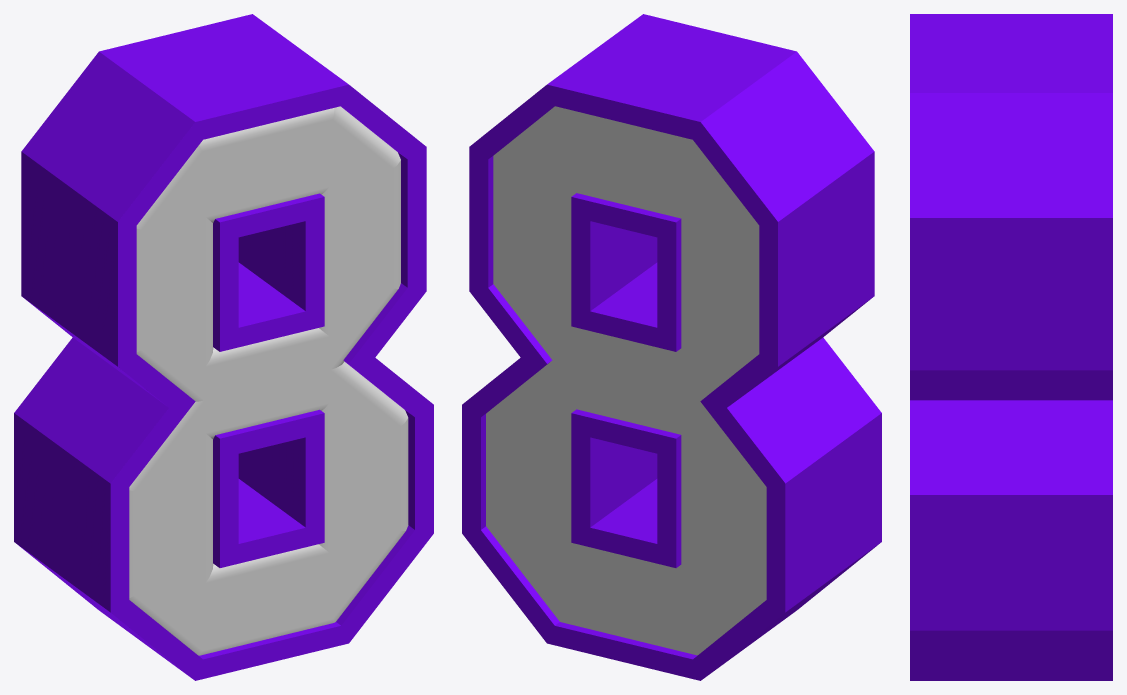
3 renders of one model, left to right at view 1: azimuth 30°, elevation 25°; view 2: azimuth 150°, elevation 25°; view 3: azimuth 270°, elevation 25°, orthographic. The views are drawn at different scales.
Parts seen in each view (by area): view 1: Extrusion Model.000, Extrusion Model; view 2: Extrusion Model.000, Extrusion Model; view 3: Extrusion Model.000.
Boxes of the visible parts, box(x1,y1,x2,y2) form: Extrusion Model.000: box(14, 14, 433, 680); Extrusion Model: box(129, 106, 408, 655); Extrusion Model.000: box(462, 14, 881, 680); Extrusion Model: box(486, 106, 766, 655); Extrusion Model.000: box(910, 14, 1112, 680).
Bounding box in the file's own units: 9.23 × 15.25 × 4.77.
